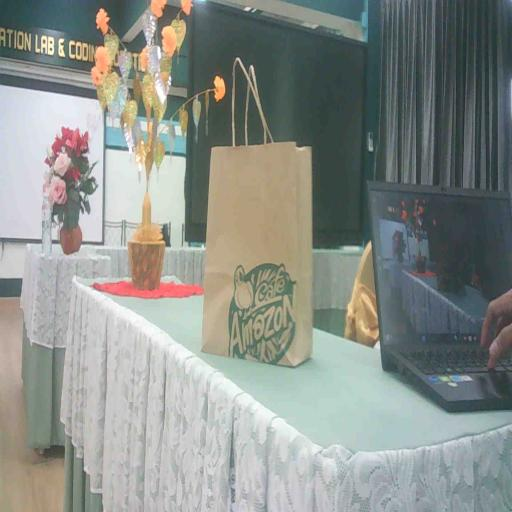bag: (195, 127, 320, 375)
